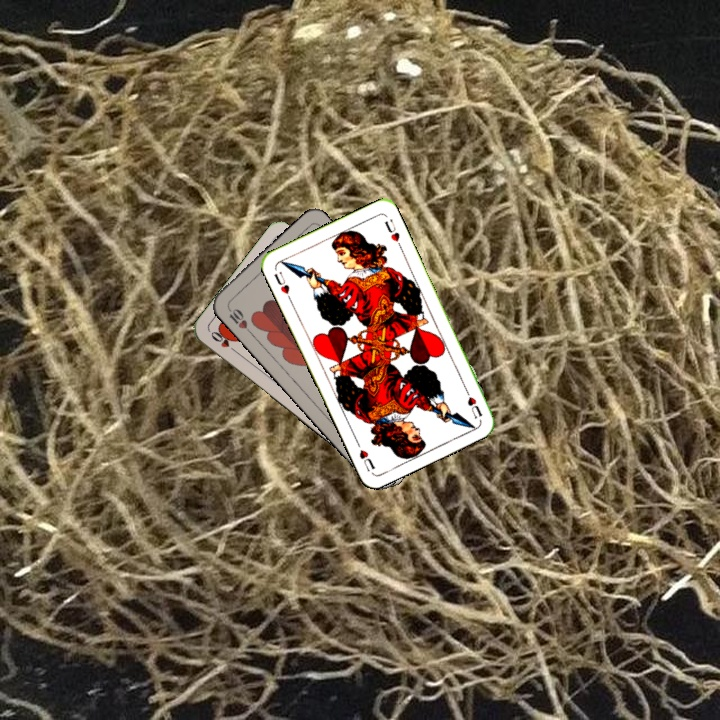H10: (223, 302, 254, 336)
HO: (207, 327, 241, 357)
HU: (461, 384, 485, 421), (270, 267, 294, 303)
